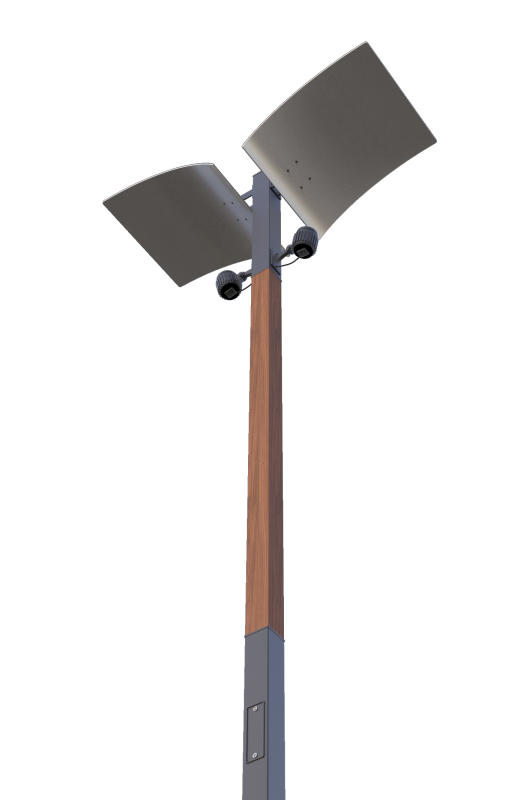light_pole: (227, 156, 327, 798)
